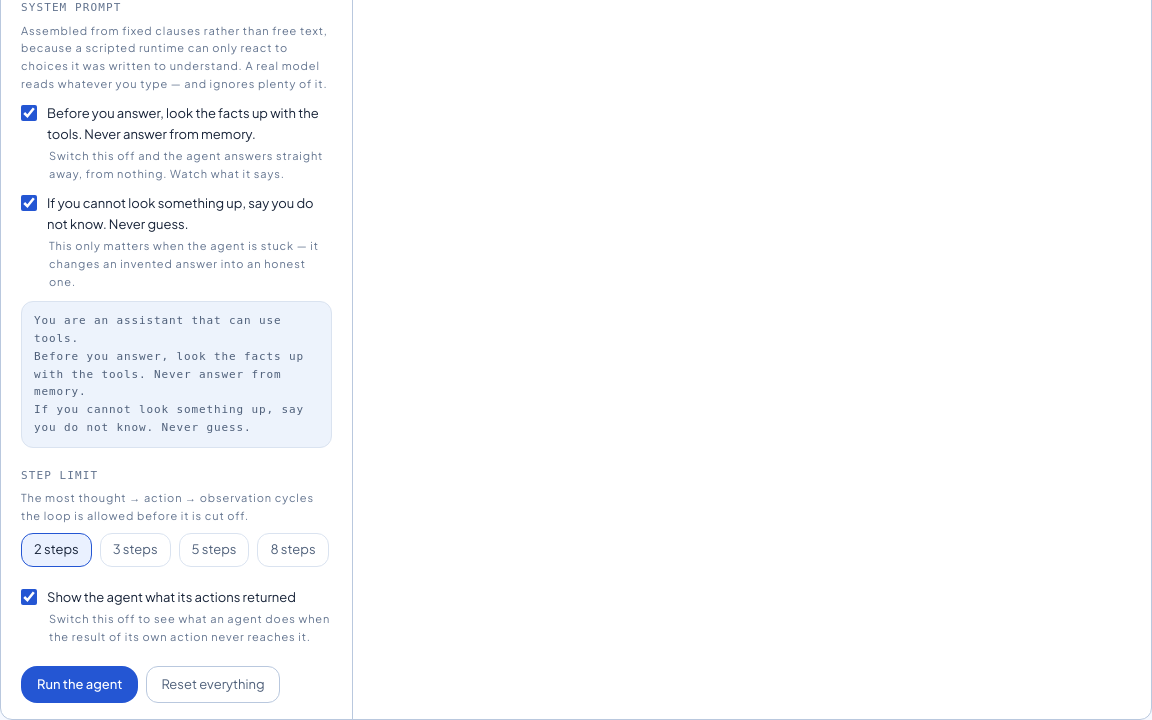
Scenario: AgentLab — stepping through a trace › clears a stale trace as soon as a setting changes
The image size is (1152, 720).
(page scrolled)
Click the button "Run the agent". click: (80, 684)
box: x1=21 y1=666 x2=138 y2=703
(page scrolled)
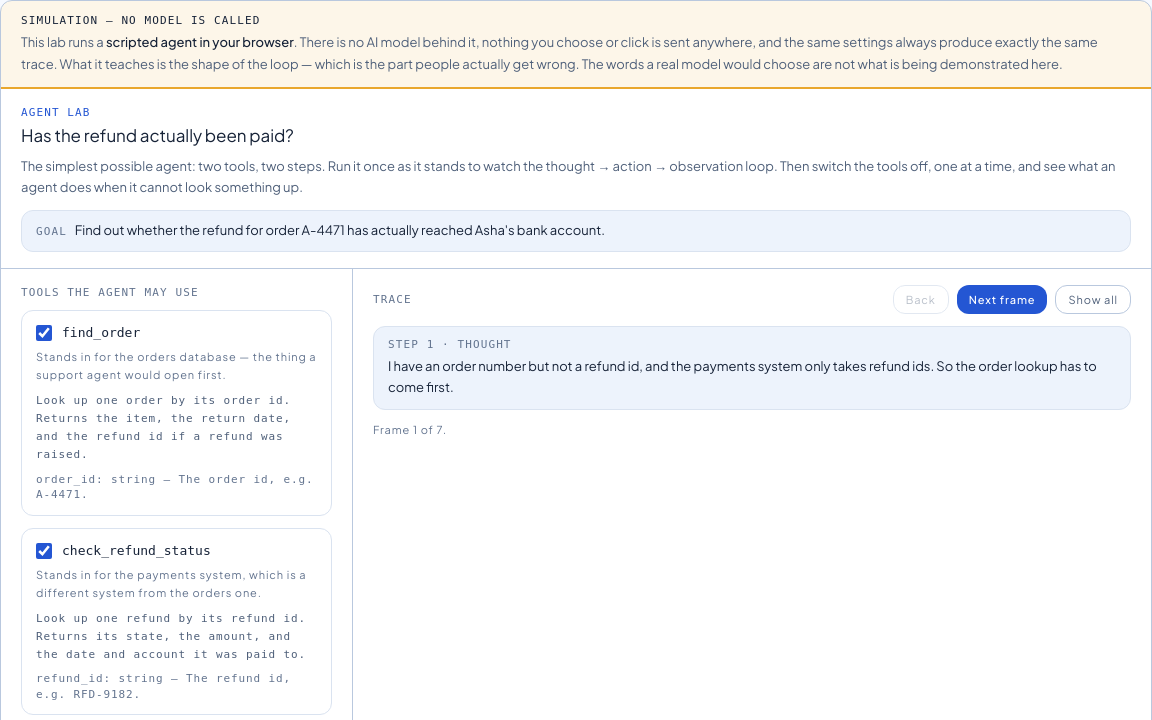
Click the button "Show all". click: (1093, 299)
box: x1=1056 y1=285 x2=1131 y2=314
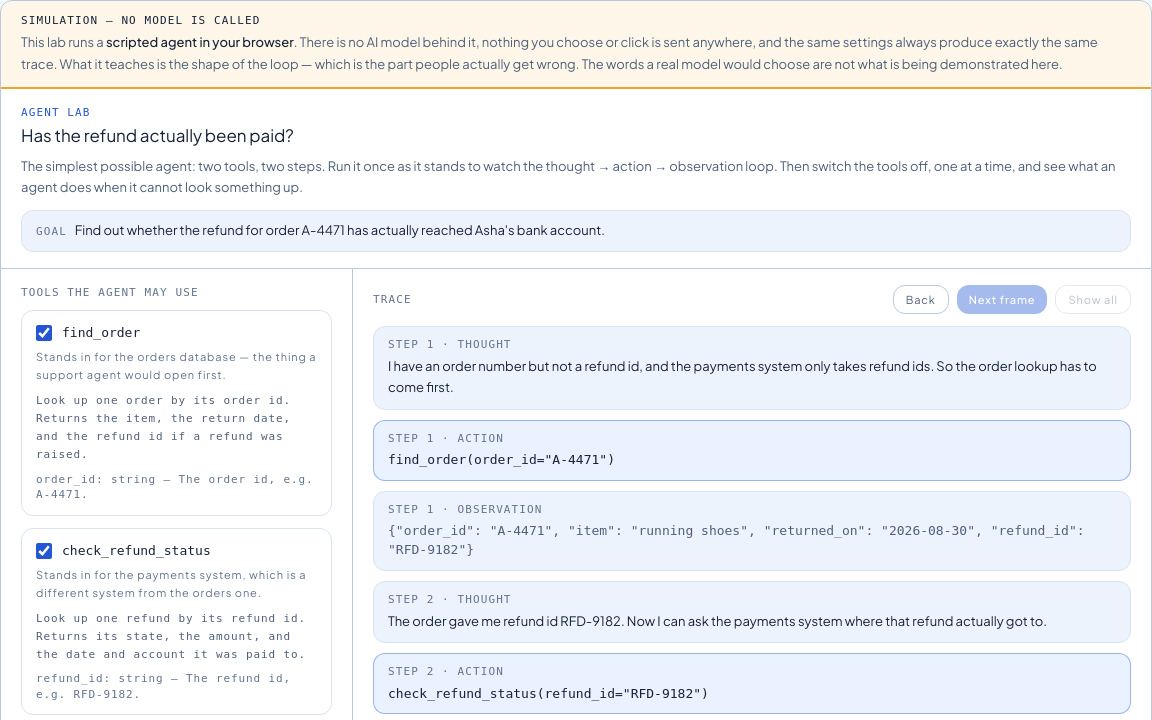
Click the checkbox labelled "find_order". click: (44, 333)
box: x1=36 y1=325 x2=52 y2=341
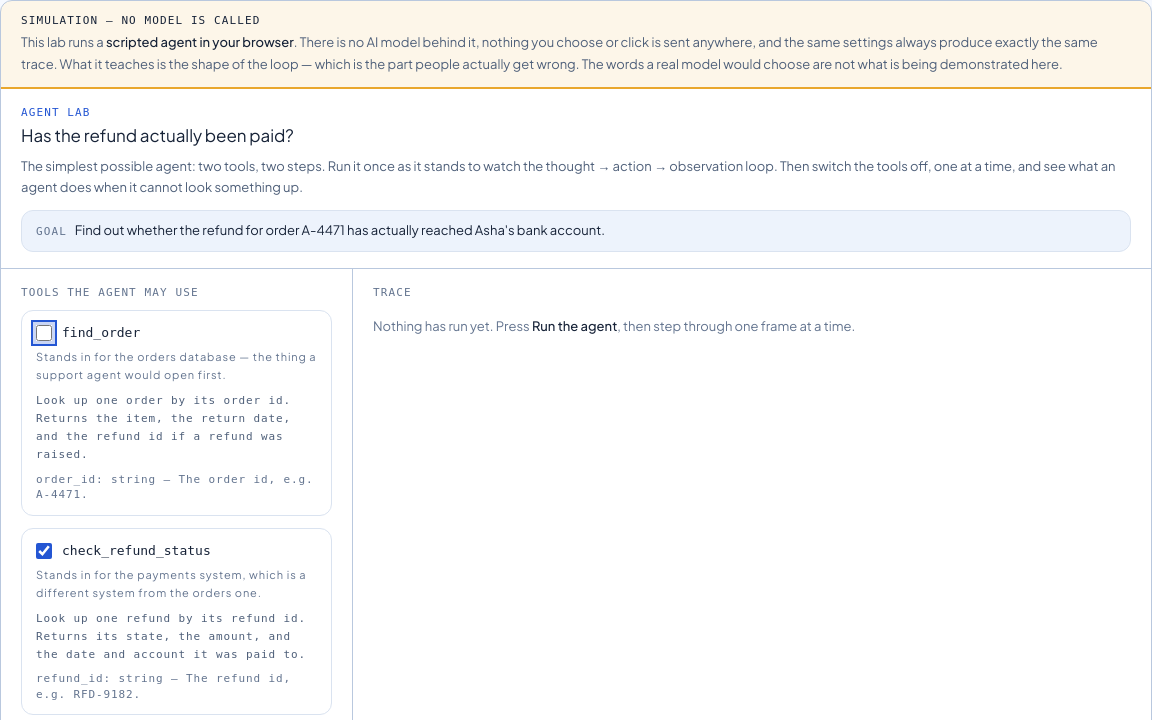
Check: the text "Nothing has run yet" is shown, box x1=373 y1=318 x2=532 y2=334
